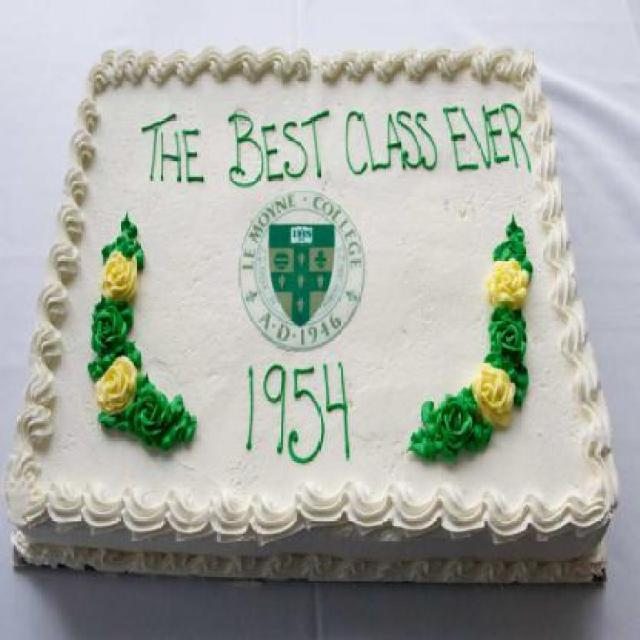Cake: (6, 47, 617, 586)
